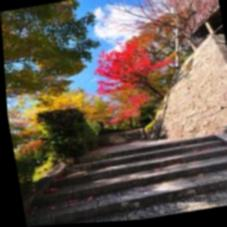Bench: (43, 137, 195, 225)
